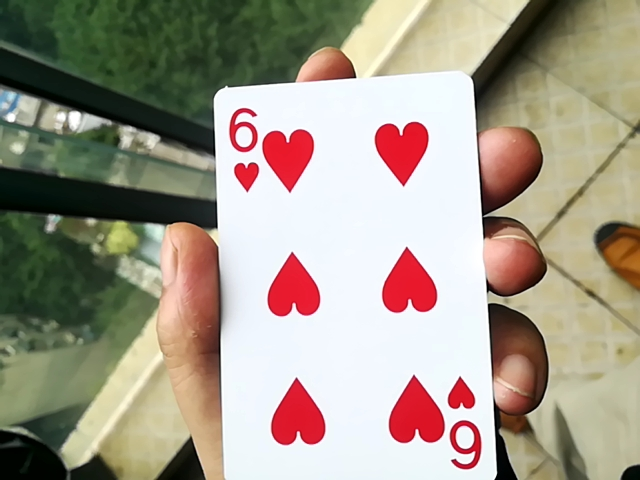hx 6: (201, 61, 498, 480)
